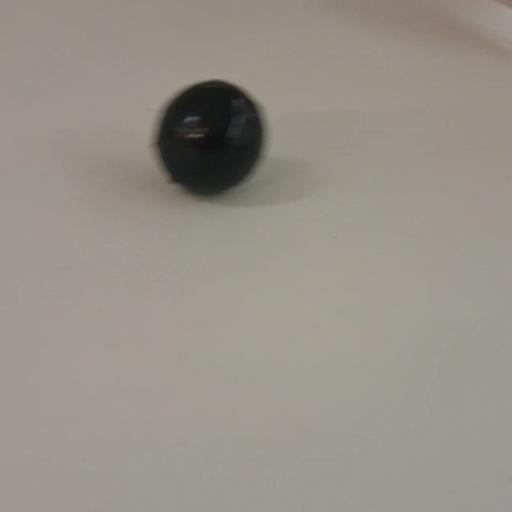dead: (151, 77, 268, 196)
